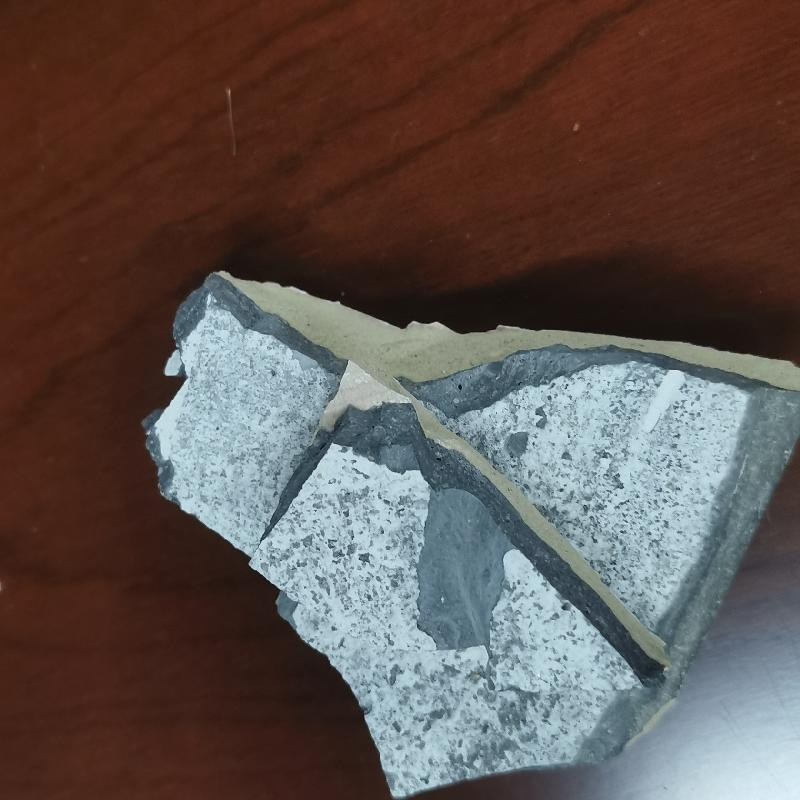tile: (133, 265, 799, 800)
